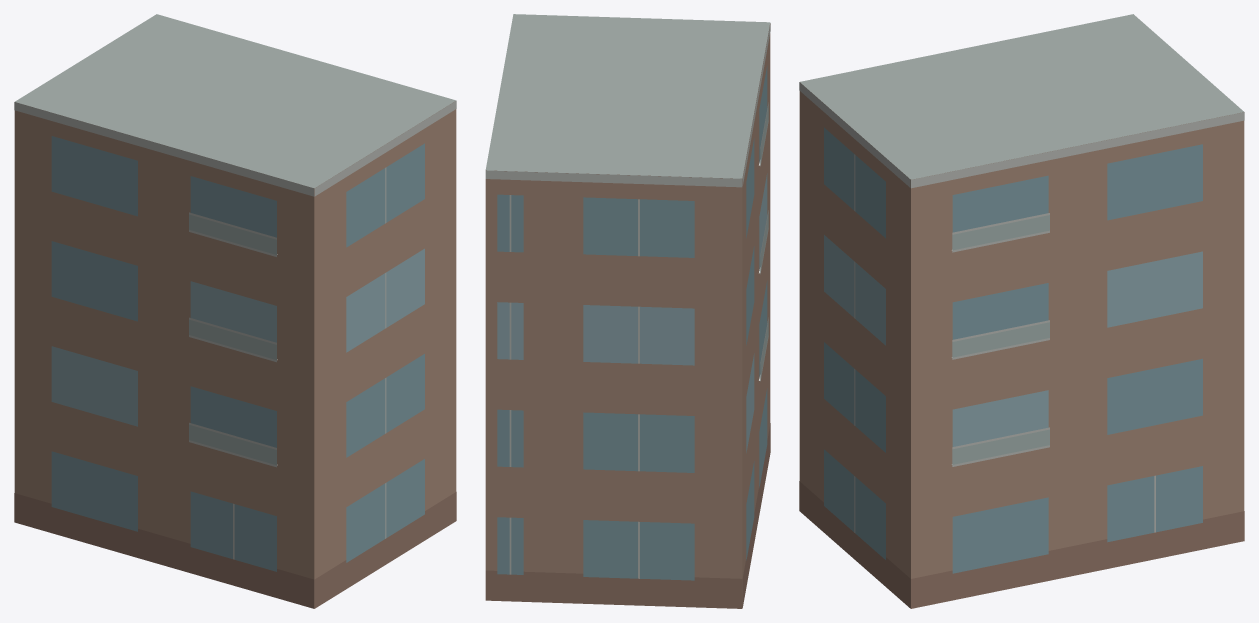
The model's file is residential-c05cb532-5413-4188-80ea-c6045b87c36f.glb.
3 renders of one model, left to right at view 1: azimuth 30°, elevation 25°; view 2: azimuth 150°, elevation 25°; view 3: azimuth 270°, elevation 25°, orthographic. The views are drawn at different scales.
Parts seen in each view (by area): view 1: residential-c05cb532-5413-4188-80ea-c6045b87c36f.tmp; view 2: residential-c05cb532-5413-4188-80ea-c6045b87c36f.tmp; view 3: residential-c05cb532-5413-4188-80ea-c6045b87c36f.tmp.
Part boxes in pixels (x1,y1,x2,y2): residential-c05cb532-5413-4188-80ea-c6045b87c36f.tmp: [14, 14, 456, 608]; residential-c05cb532-5413-4188-80ea-c6045b87c36f.tmp: [485, 14, 770, 608]; residential-c05cb532-5413-4188-80ea-c6045b87c36f.tmp: [799, 14, 1244, 608].
Bounding box in the file's own units: 10.12 × 12.2 × 11.48.
